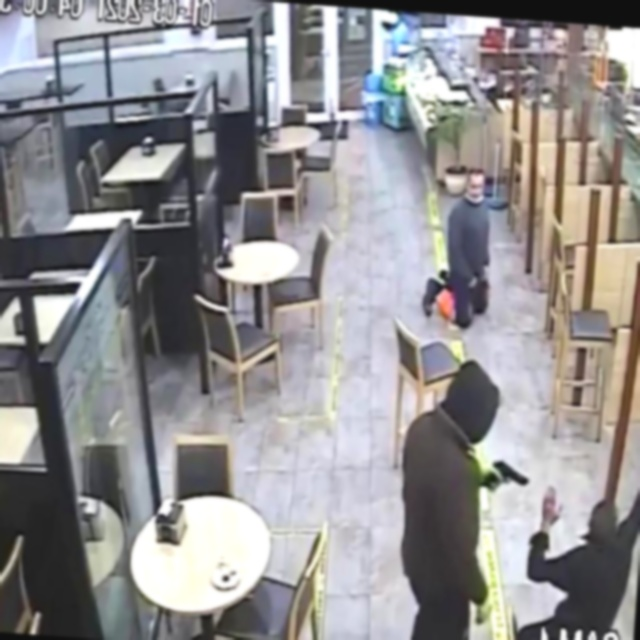gun: (482, 441, 542, 506)
